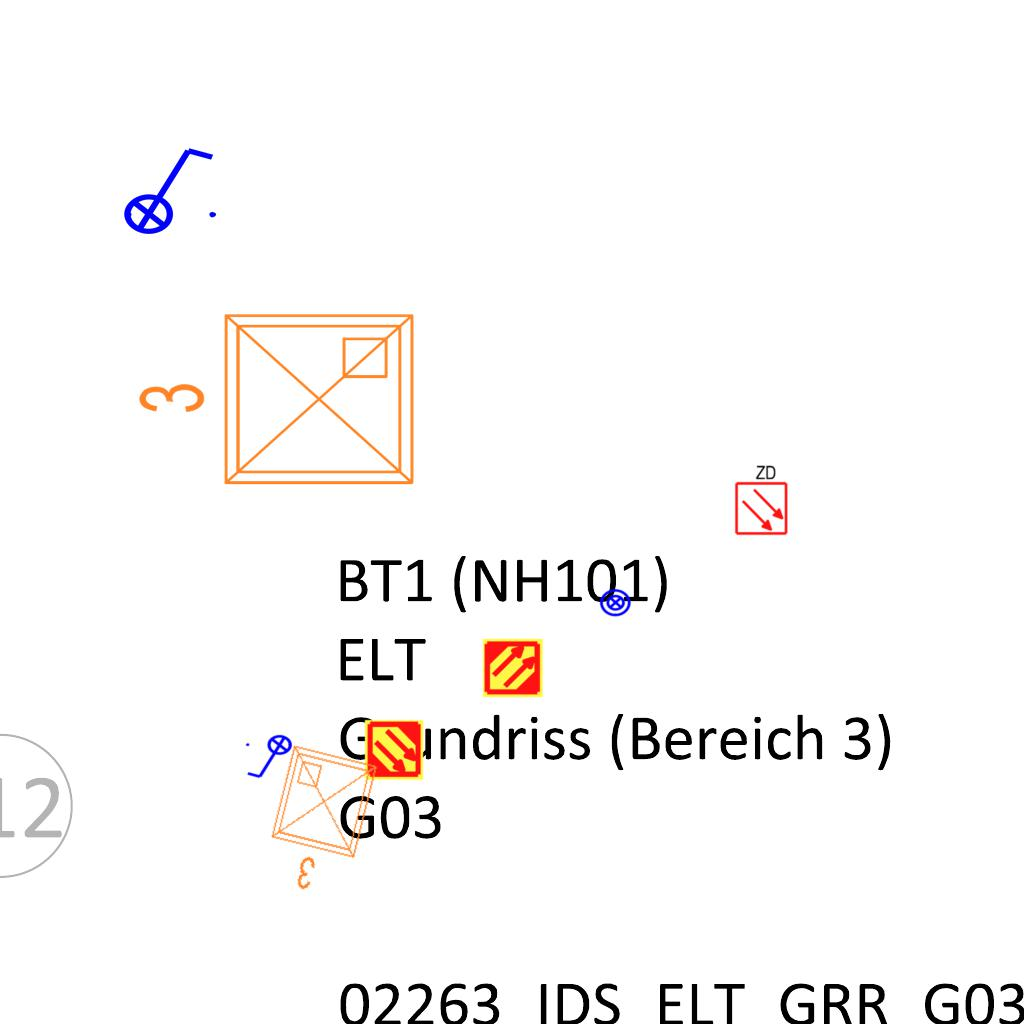ASR_Ansaugrauchmelder: (482, 637, 544, 699), (363, 719, 425, 781)
Ausschalter_beleuchtet: (110, 140, 222, 236), (243, 734, 299, 782)
Einbaudownlights_LED_Konferenzraeume: (128, 299, 428, 507), (252, 736, 390, 908)
Taster_beleuchtet: (599, 586, 632, 619)
ZD_Melder_in_Zwischendecke_mit_Revisionsoeffnung_mind_40_x_40_cm: (732, 462, 789, 536)
